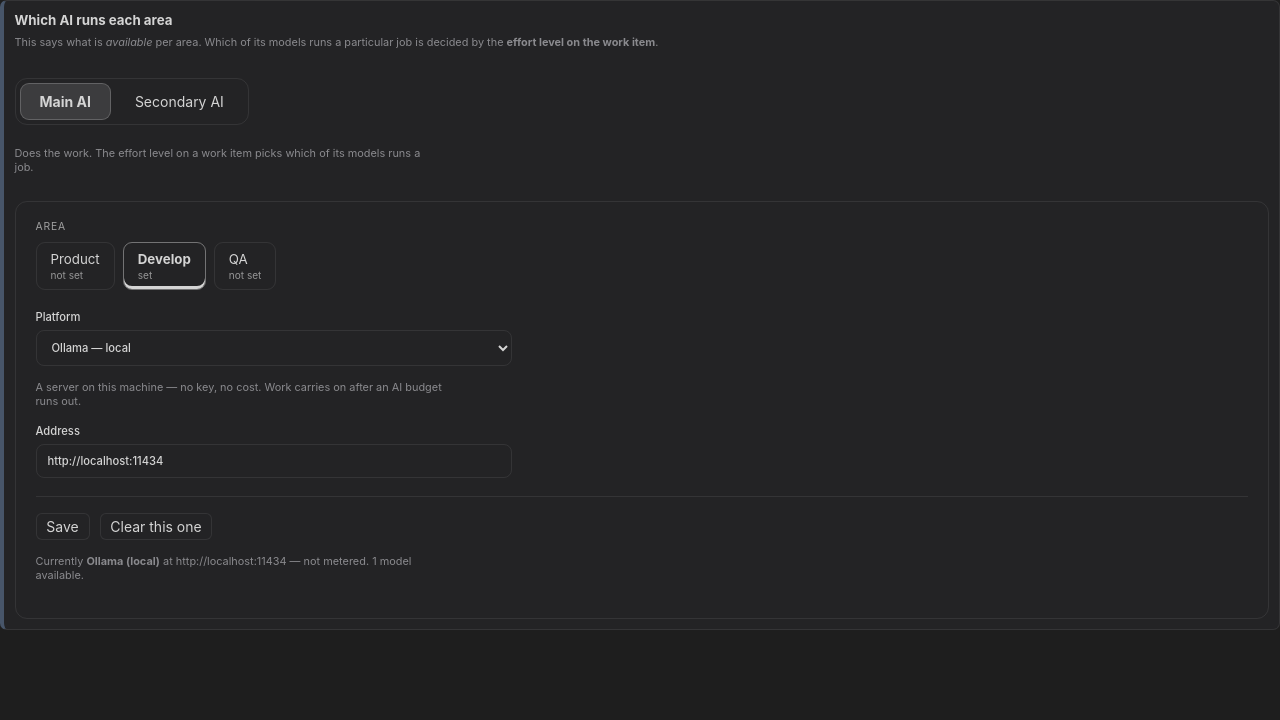
Test case: AiRouting › offers clearing only for a cell that is set
Check: the text "Ollama (local)" is shown, box [86, 554, 160, 568]
Check: the text "not metered" is shown, box [304, 554, 366, 568]
Click the button "Clear this one".
click(156, 526)  # box [100, 512, 212, 540]
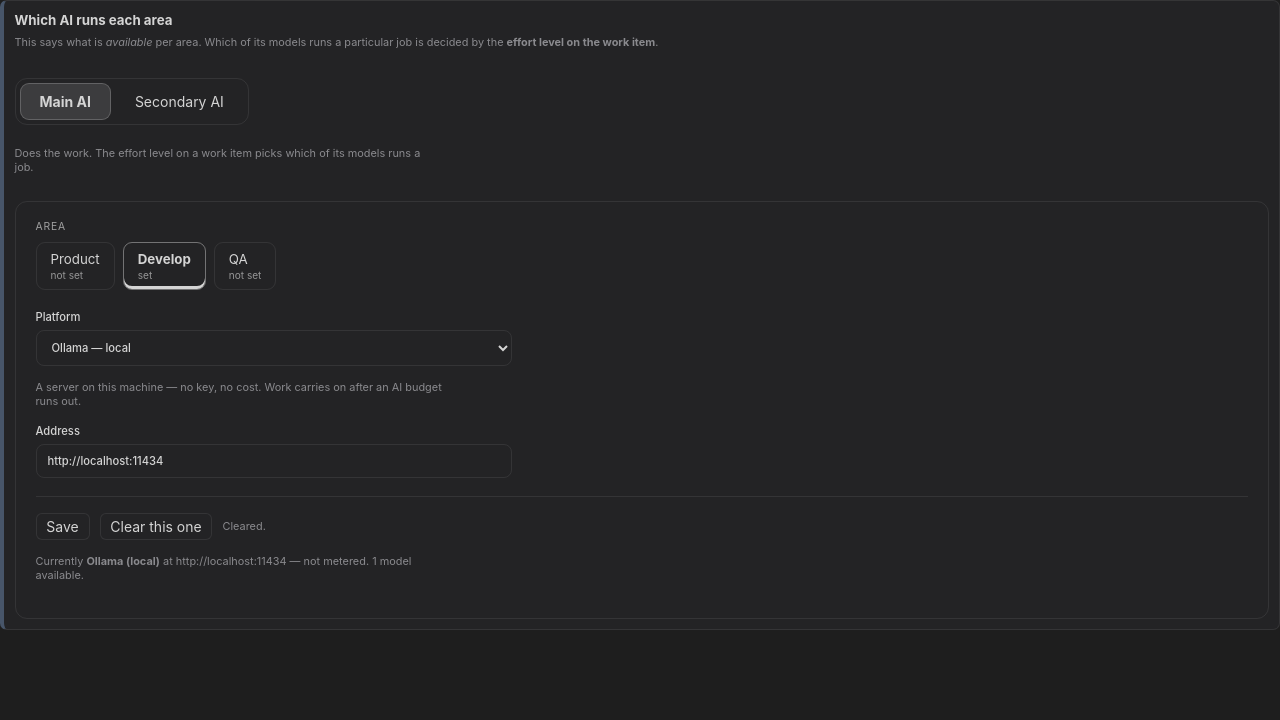
# Product/Main is not, so there is nothing to clear.
Click the tab "Product not set".
click(75, 266)  # box [36, 242, 115, 290]
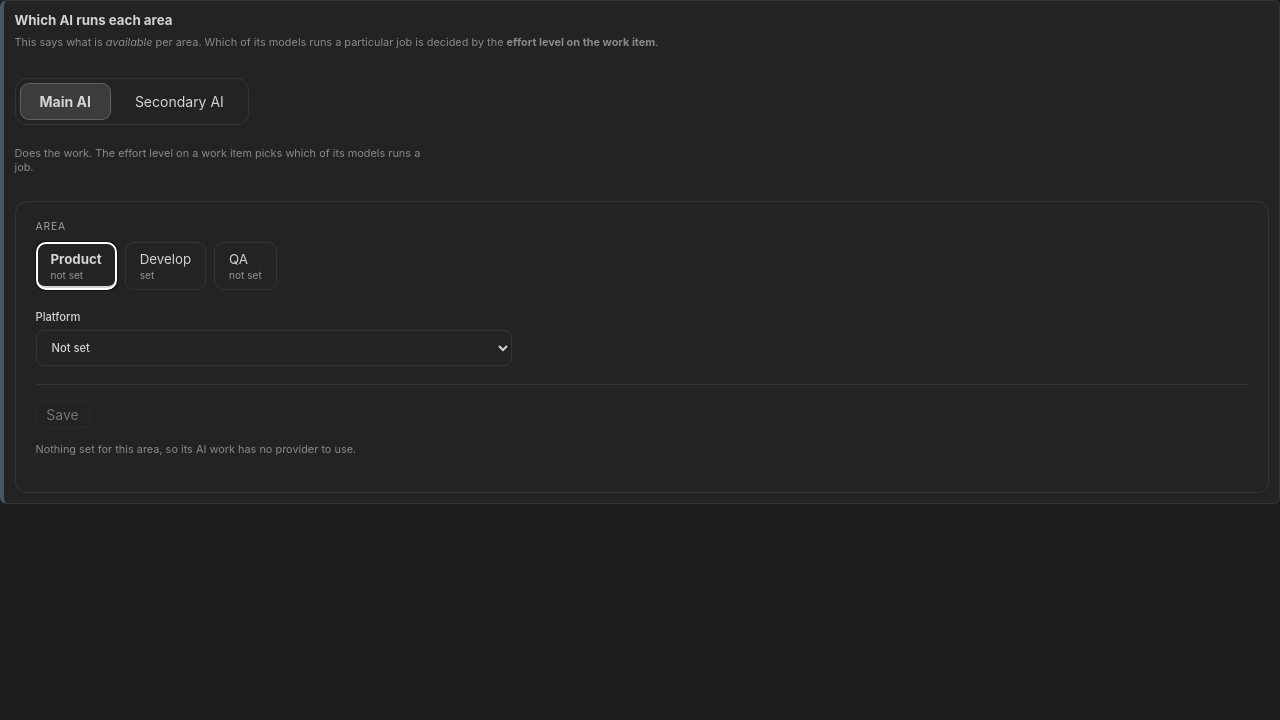
Check: the button "Clear this one" is gone
